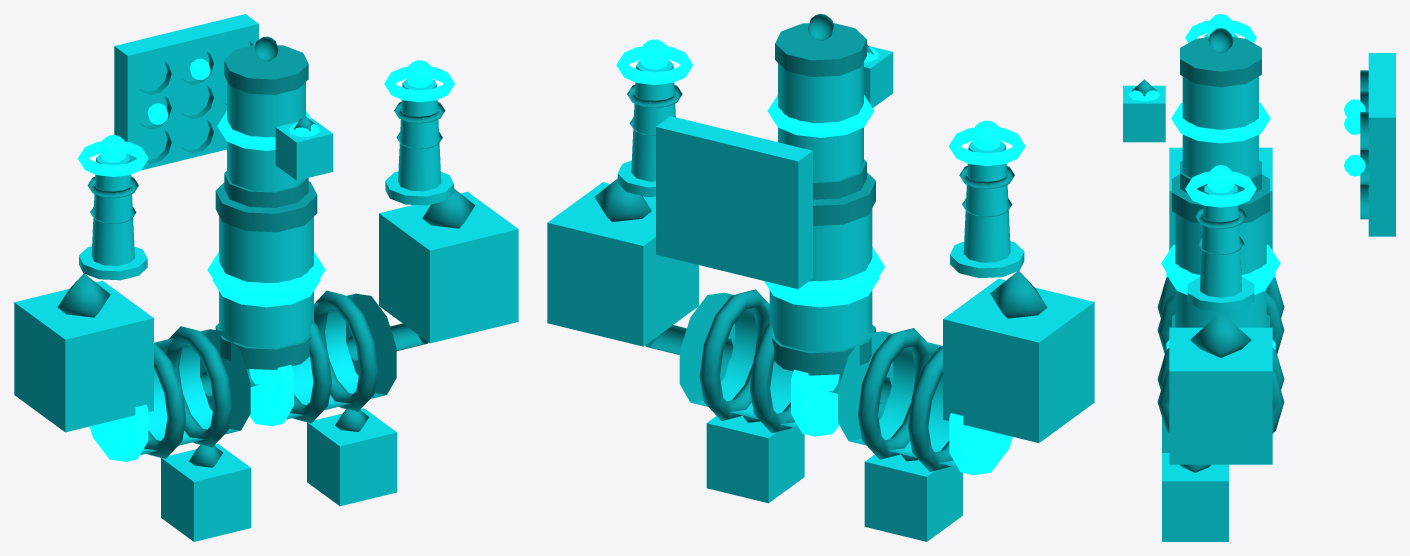
Rendered from golem_127.glb.
The picture shows the model from 3 angles, left to right: view 1: azimuth 30°, elevation 25°; view 2: azimuth 150°, elevation 25°; view 3: azimuth 270°, elevation 25°; orthographic projection. The views are drawn at different scales.
Visible parts, largest first — view 1: Body, Detail, Glow; view 2: Body, Detail, Glow; view 3: Body, Detail, Glow.
Boxes of the visible parts, x1,y1,x2,y2 form: Body: (14, 14, 518, 541); Detail: (57, 36, 475, 467); Glow: (78, 58, 454, 461); Body: (547, 46, 1094, 541); Detail: (594, 14, 1047, 471); Glow: (616, 39, 1025, 475); Body: (1123, 34, 1395, 541); Detail: (1132, 28, 1368, 472); Glow: (1128, 14, 1365, 349).
Size of the model in its own units: 1.52 by 1.46 by 0.7821.
